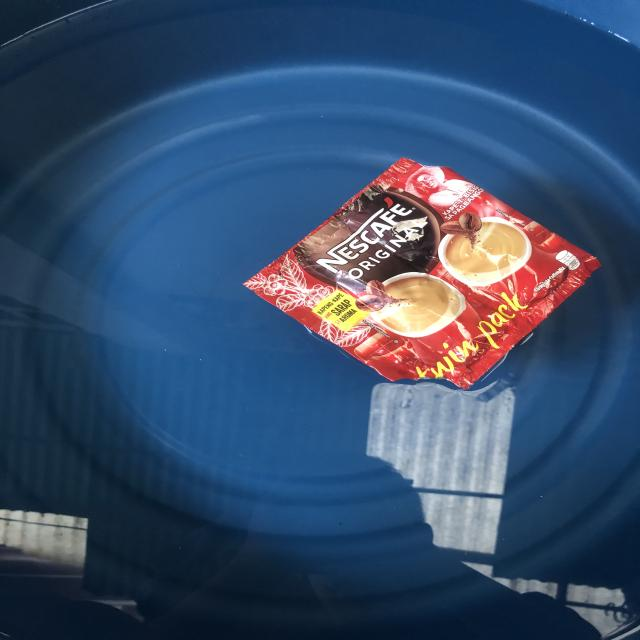Plastic Wrapper: (252, 161, 604, 397)
